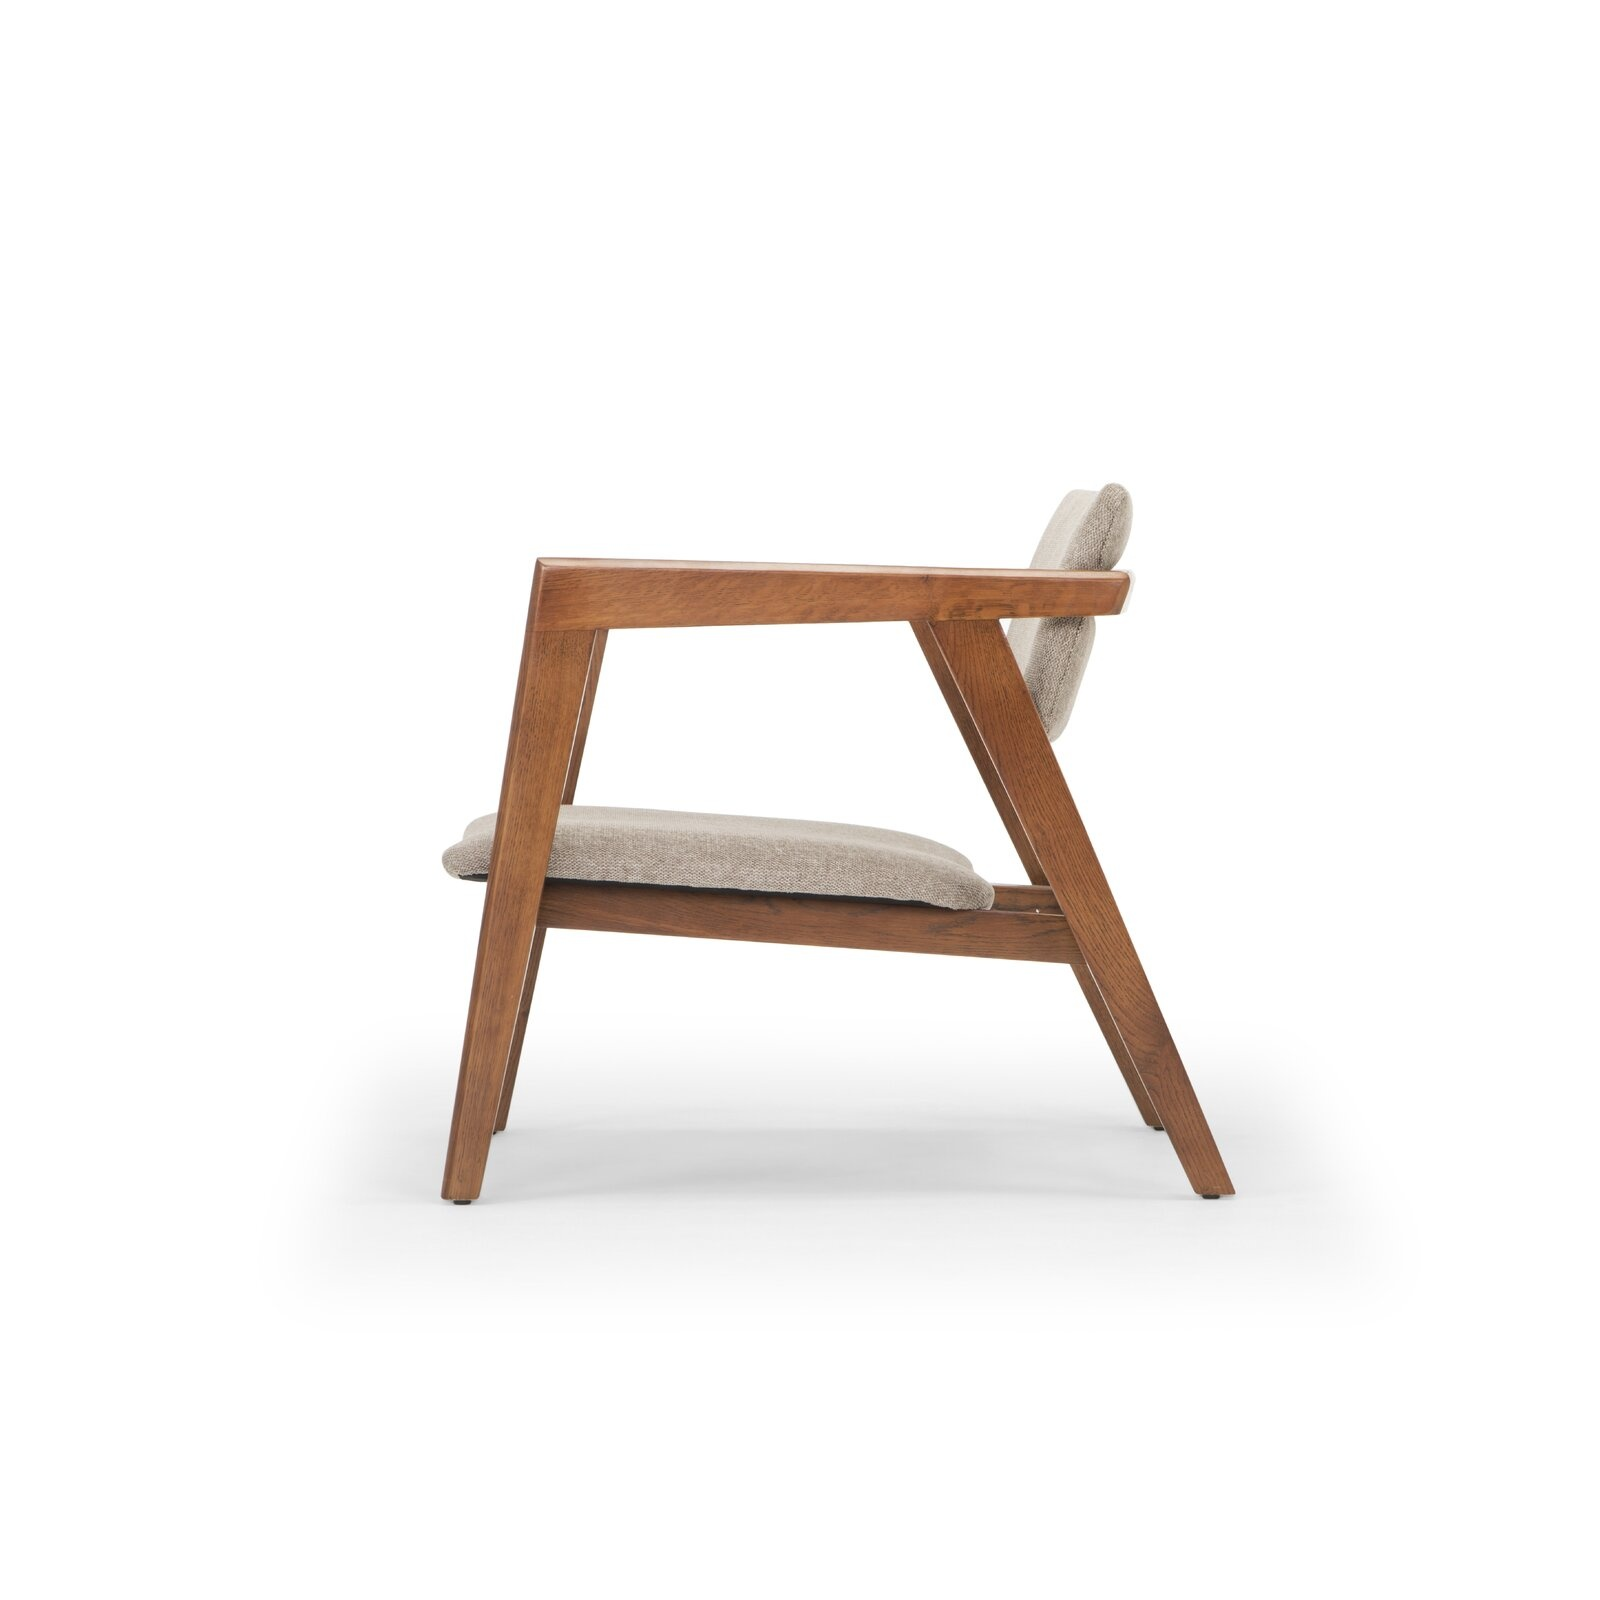obstacle: (442, 486, 1232, 1201)
